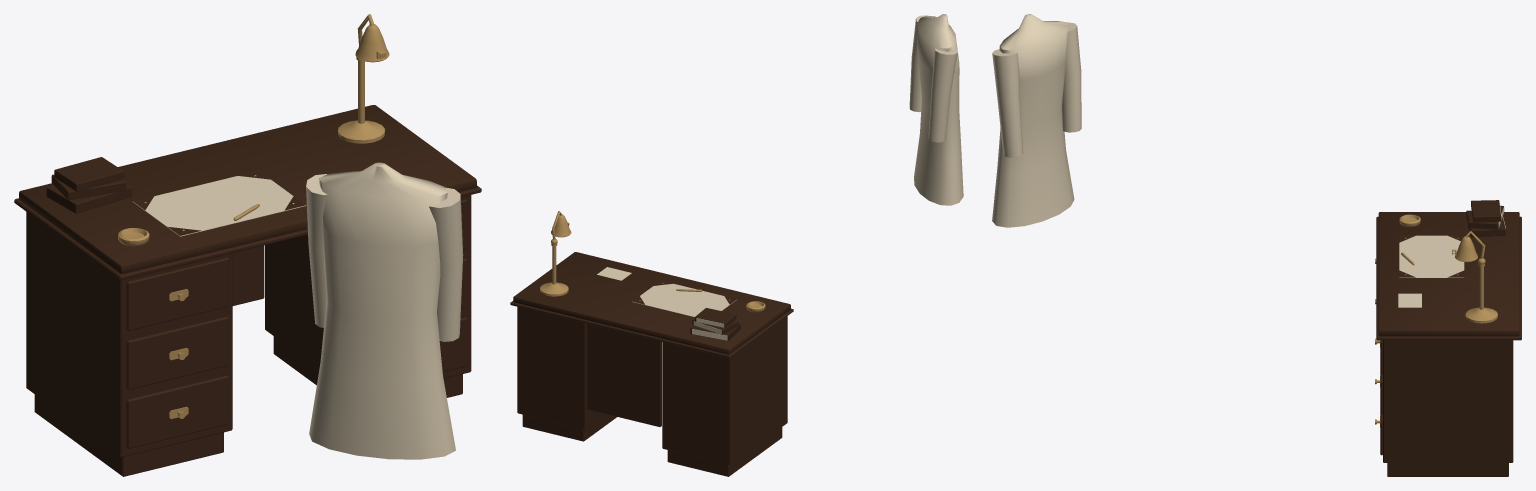
File: office_desk.glb
3 views of the same model, side by side, from view 1: azimuth 30°, elevation 25°; view 2: azimuth 150°, elevation 25°; view 3: azimuth 270°, elevation 25° (orthographic). The views are drawn at different scales.
Parts seen in each view (by area): view 1: office_desk, IA_office_lamp; view 2: office_desk; view 3: office_desk, IA_office_lamp.
Part boxes in pixels (bbox=[...]): office_desk: bbox=[14, 57, 481, 476]; IA_office_lamp: bbox=[355, 14, 389, 62]; office_desk: bbox=[510, 14, 963, 476]; office_desk: bbox=[992, 14, 1521, 476]; IA_office_lamp: bbox=[1452, 231, 1485, 264].
Size of the model in its own units: 1.47 by 1.76 by 2.44.
